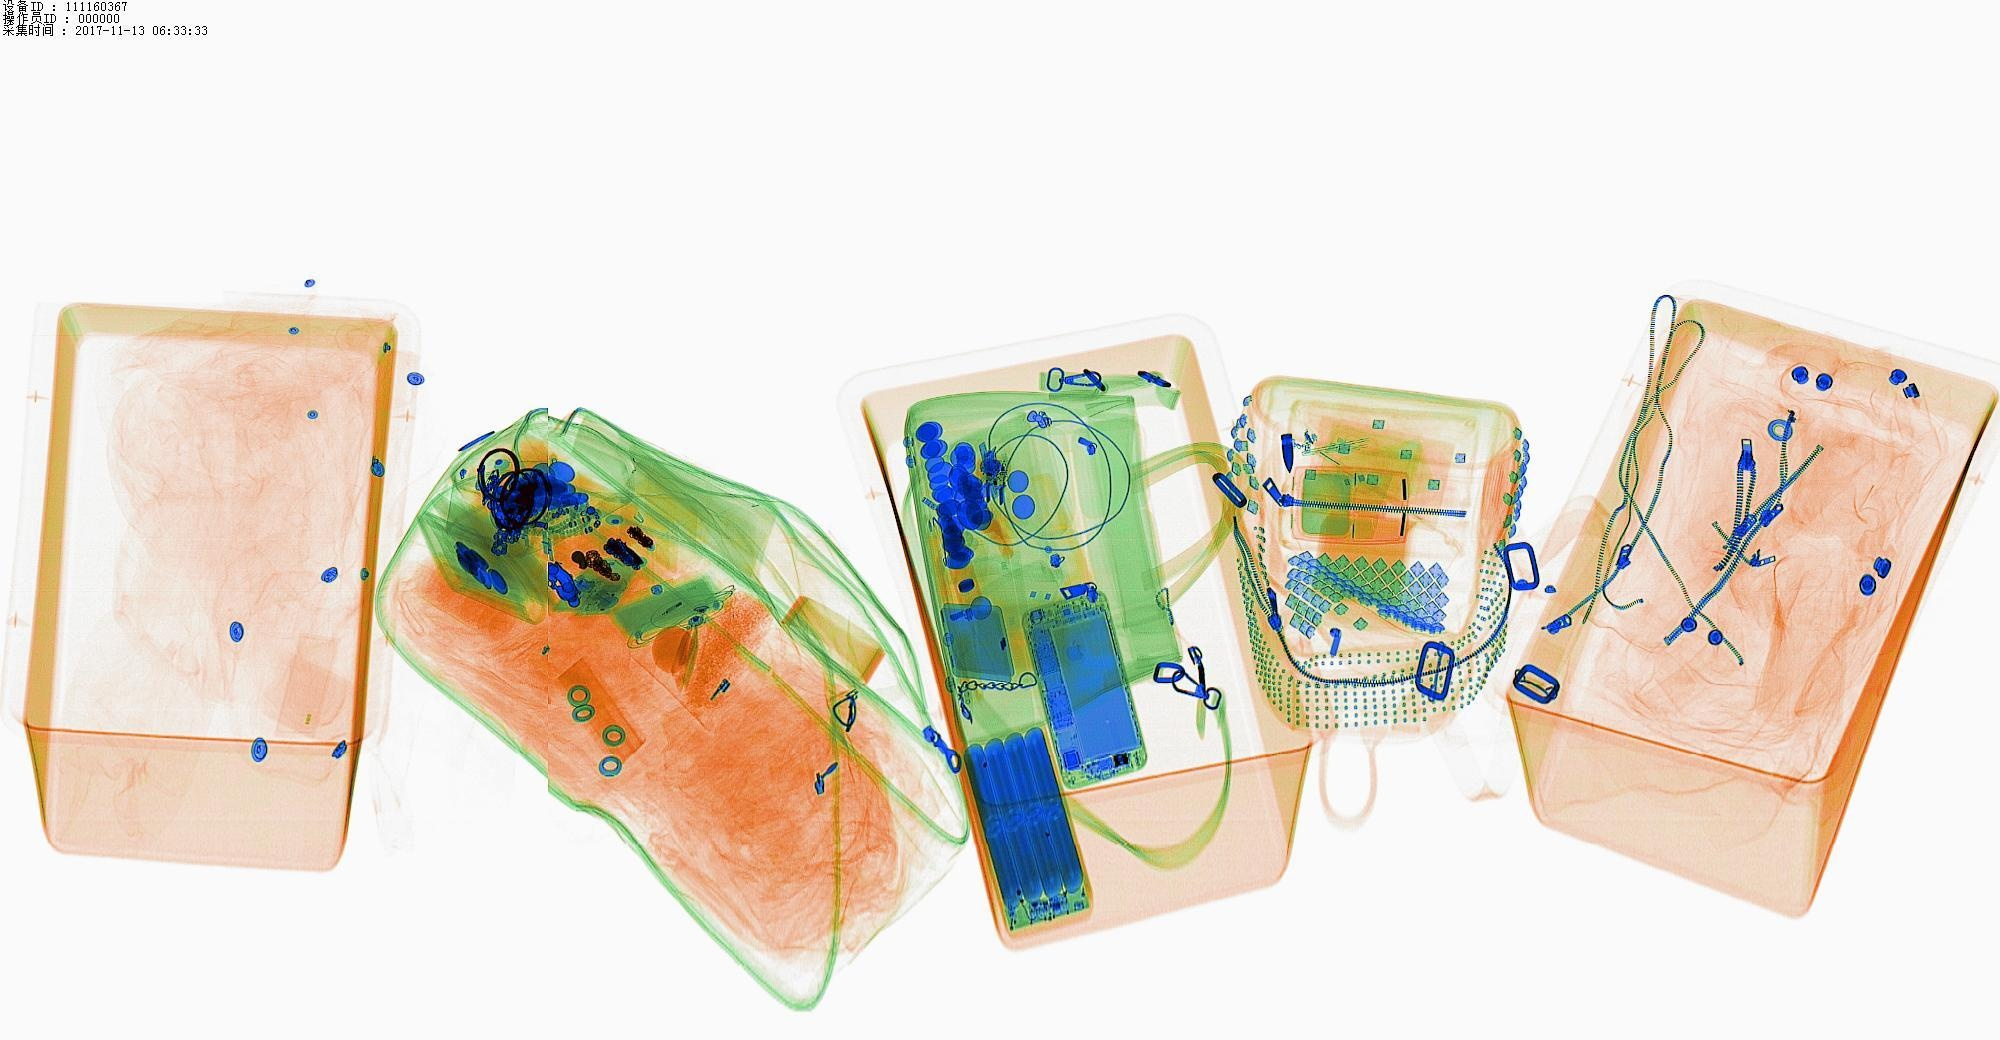core: (970, 736, 1086, 898)
